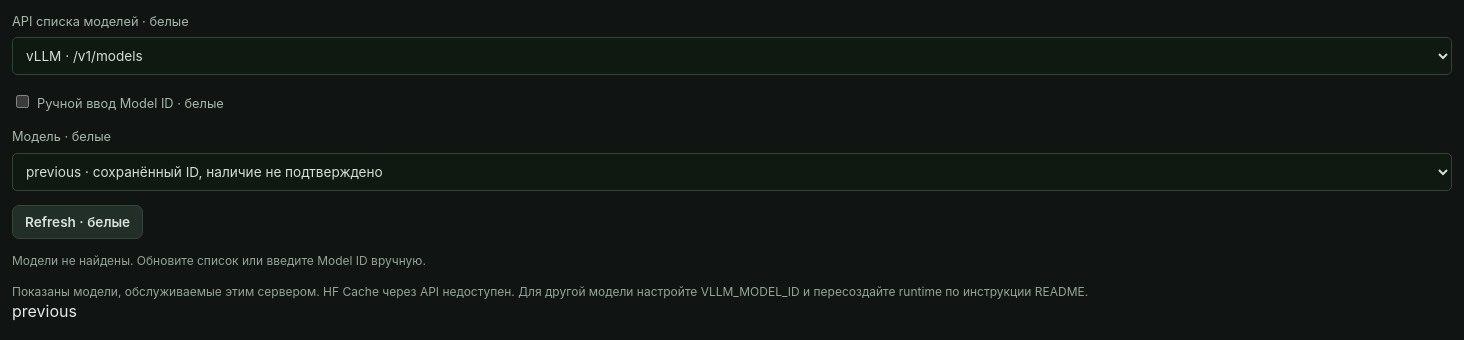
Test: model selection › handles empty without clearing saved ID
Expected: the message named "Список моделей · белые" shows "Модели не найдены", [12,253,426,268]
Expected: the dropdown labelled "Модель · белые" shows "previous · сохранённый ID, наличие не подтверждено", [12,153,1452,191]
Click the checkbox: (22, 102) [16,95,29,108]
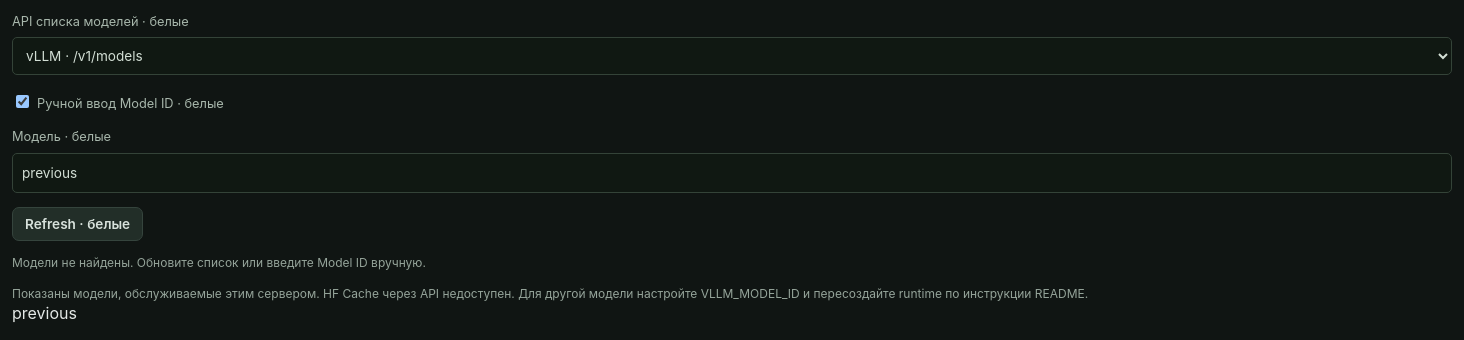
Result: the field holds "previous" at [12,153,1452,193]
